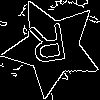R: (27, 22, 71, 73)
